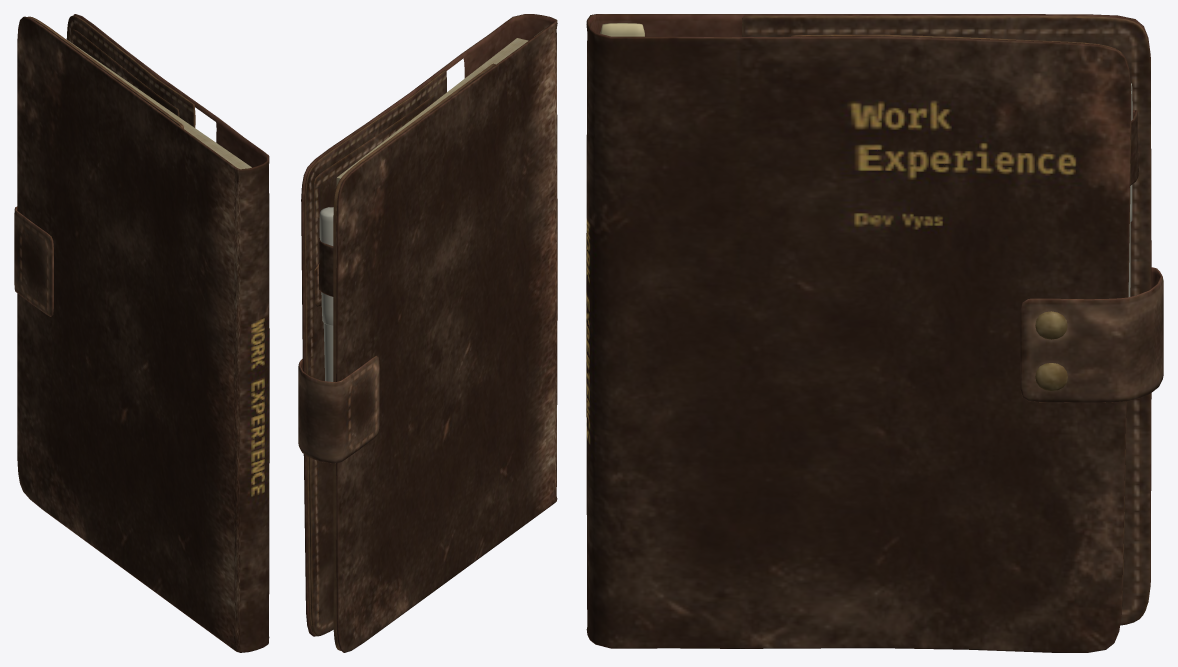
The model's file is experience.glb.
The picture shows the model from 3 angles, left to right: view 1: azimuth 30°, elevation 25°; view 2: azimuth 150°, elevation 25°; view 3: azimuth 270°, elevation 25°; orthographic projection. The views are drawn at different scales.
Visible parts, largest first — view 1: binder; view 2: binder; view 3: binder.
Boxes of the visible parts, bbox=[...] form: binder: bbox=[14, 14, 269, 652]; binder: bbox=[298, 14, 557, 652]; binder: bbox=[586, 14, 1163, 652].
Size of the model in its own units: 0.0253 by 0.2 by 0.1706.
1 material, 1 textured.
